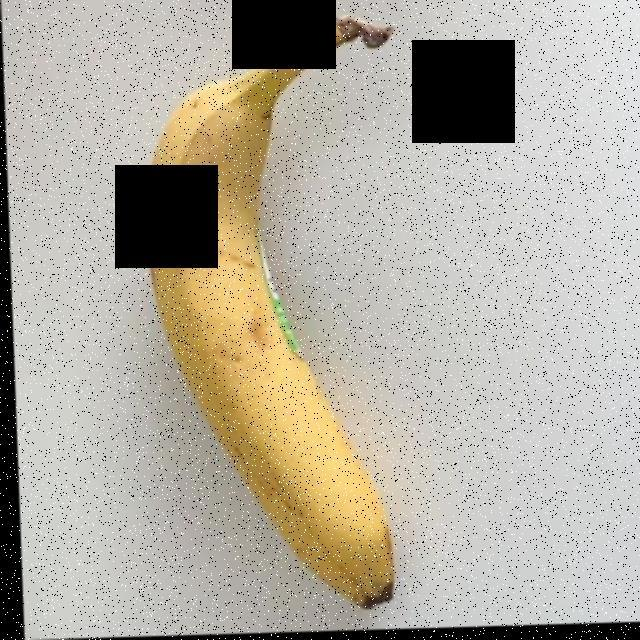banana: (150, 24, 388, 606)
